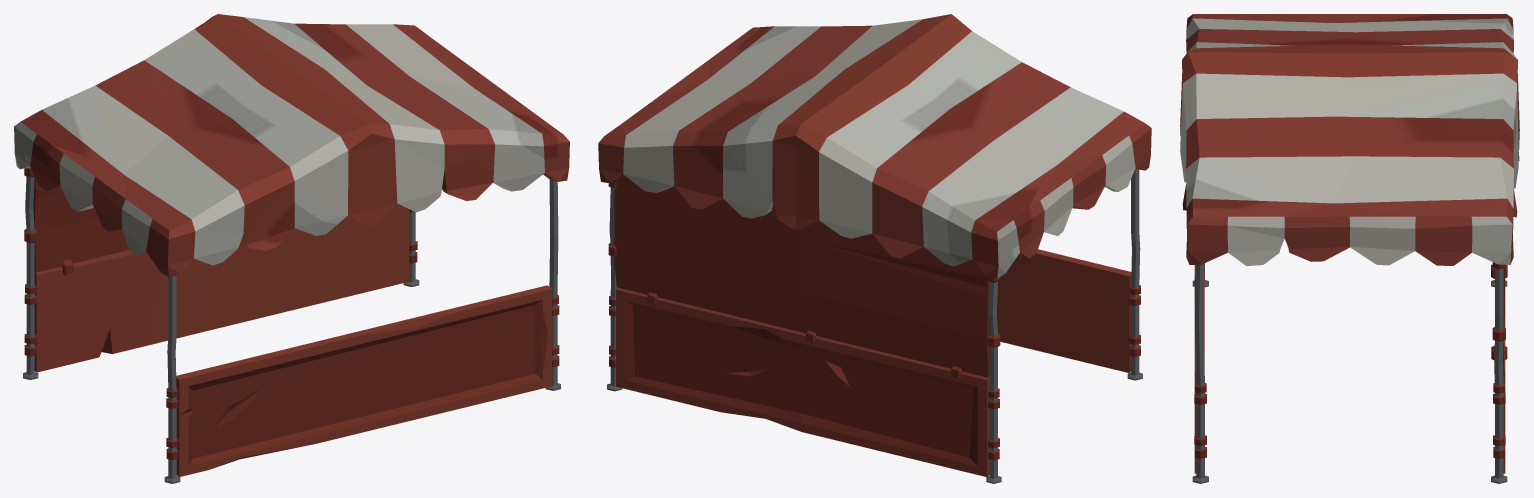
The model's file is stall-01.glb.
3 views of the same model, side by side, from view 1: azimuth 30°, elevation 25°; view 2: azimuth 150°, elevation 25°; view 3: azimuth 270°, elevation 25° (orthographic). The views are drawn at different scales.
Visible parts, largest first — view 1: SM_Prop_Stall_01; view 2: SM_Prop_Stall_01; view 3: SM_Prop_Stall_01.
Boxes of the visible parts, <box> form: SM_Prop_Stall_01: <box>14,14,569,483</box>; SM_Prop_Stall_01: <box>598,14,1151,483</box>; SM_Prop_Stall_01: <box>1180,14,1519,483</box>.
Size of the model in its own units: 401 by 293 by 274.
1 material, 1 textured.
